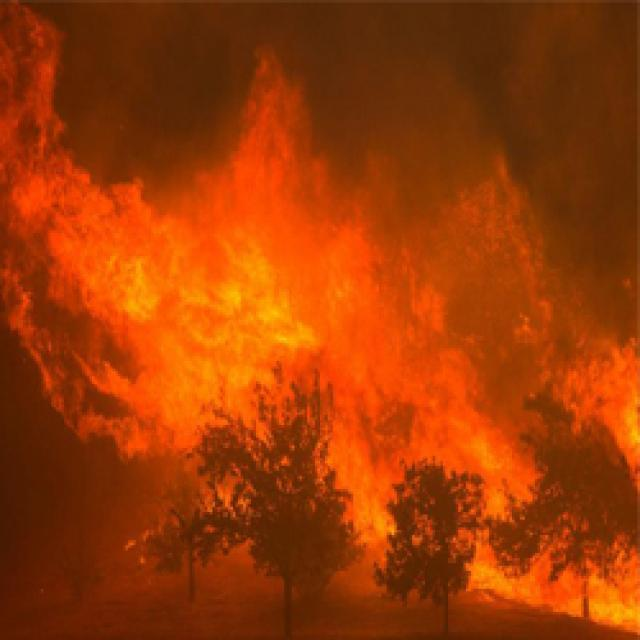Fire: (56, 166, 511, 456), (545, 271, 640, 640), (321, 453, 508, 608), (0, 0, 63, 421), (508, 185, 546, 613), (244, 51, 305, 168), (200, 462, 253, 548)
Smoke: (300, 0, 500, 164), (61, 3, 249, 168), (507, 5, 640, 188), (544, 184, 640, 276)
